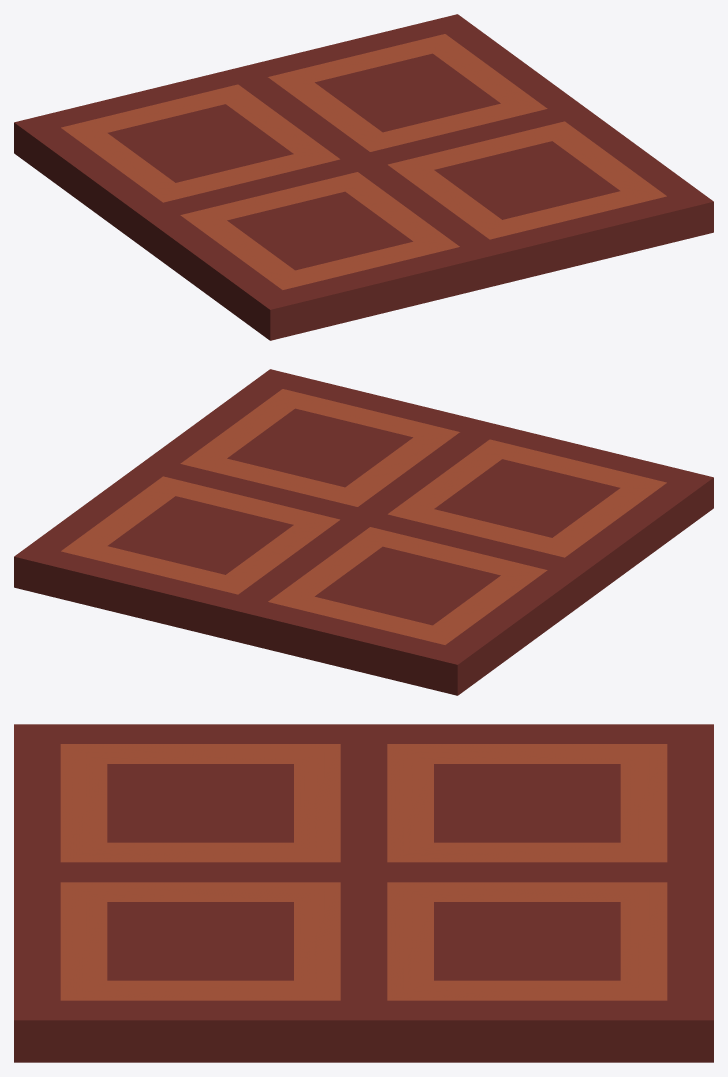
Rendered from dungeon_b_a_ground_c_a.obj.
3 views of the same model, one above another, from view 1: azimuth 30°, elevation 25°; view 2: azimuth 150°, elevation 25°; view 3: azimuth 270°, elevation 25° (orthographic). The views are drawn at different scales.
Size of the model in its own units: 1.5 by 0.1 by 1.5.
1 material, 1 textured.
